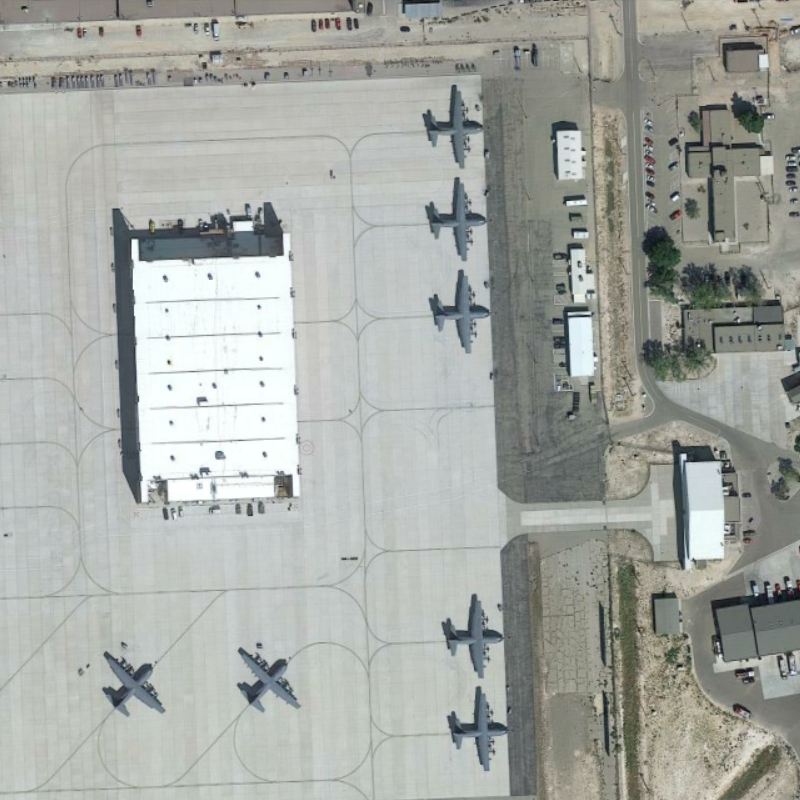A2: (443, 599, 506, 681), (429, 180, 490, 263), (431, 273, 491, 357), (425, 89, 486, 170), (448, 690, 510, 769), (101, 651, 168, 719), (237, 649, 303, 715)
